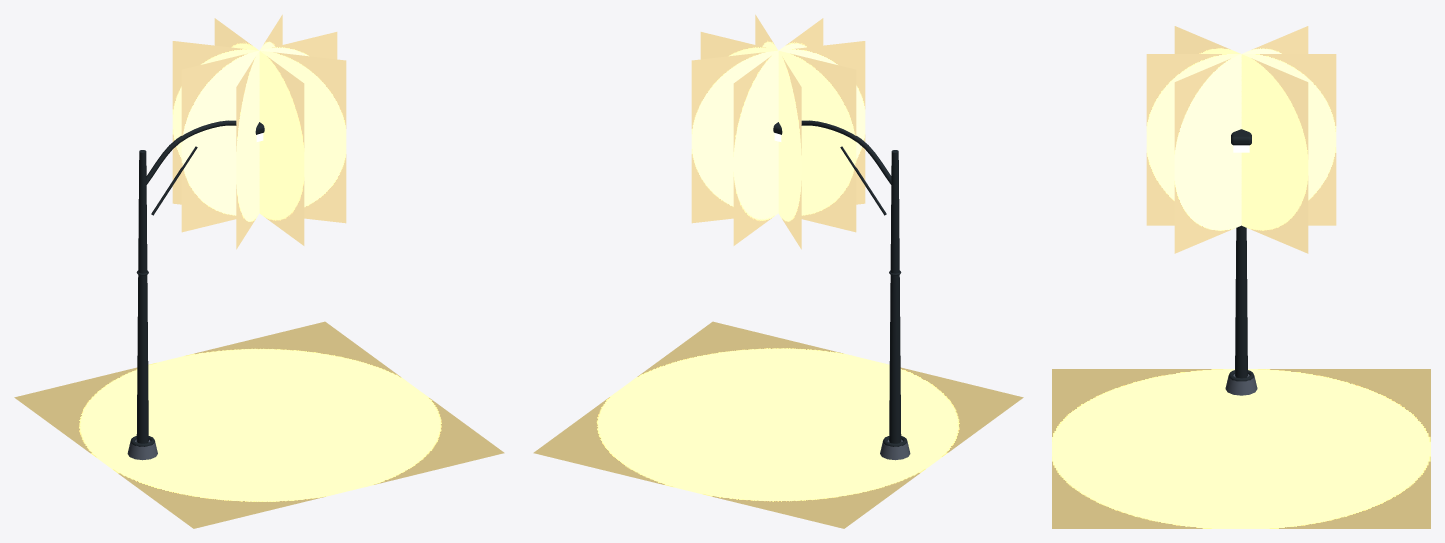
The model's file is street-lamp.glb.
3 views of the same model, side by side, from view 1: azimuth 30°, elevation 25°; view 2: azimuth 150°, elevation 25°; view 3: azimuth 270°, elevation 25° (orthographic). The views are drawn at different scales.
Parts seen in each view (by area): view 1: lamp-pool-node, lamp-halo-node, object 3, object 5; view 2: lamp-pool-node, lamp-halo-node, object 3, object 5; view 3: lamp-pool-node, lamp-halo-node, object 3, object 1.
Part boxes in pixels (x1=…): lamp-pool-node: x1=14, y1=321, x2=504, y2=528; lamp-halo-node: x1=172, y1=14, x2=346, y2=249; object 3: x1=136, y1=150, x2=148, y2=443; object 5: x1=146, y1=120, x2=236, y2=184; lamp-pool-node: x1=533, y1=321, x2=1023, y2=528; lamp-halo-node: x1=691, y1=14, x2=865, y2=249; object 3: x1=889, y1=150, x2=901, y2=443; object 5: x1=801, y1=120, x2=891, y2=184; lamp-pool-node: x1=1052, y1=369, x2=1430, y2=528; lamp-halo-node: x1=1146, y1=26, x2=1336, y2=253; object 3: x1=1235, y1=225, x2=1247, y2=378; object 1: x1=1225, y1=374, x2=1257, y2=395.
Bounding box in the file's own units: 6.4 × 7.4 × 6.4.
5 materials, 2 textured.
